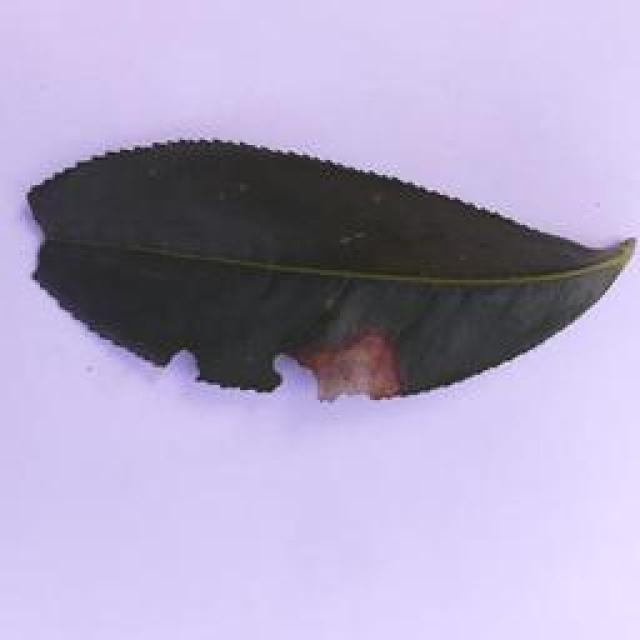Gray Blight: (24, 138, 638, 402)
